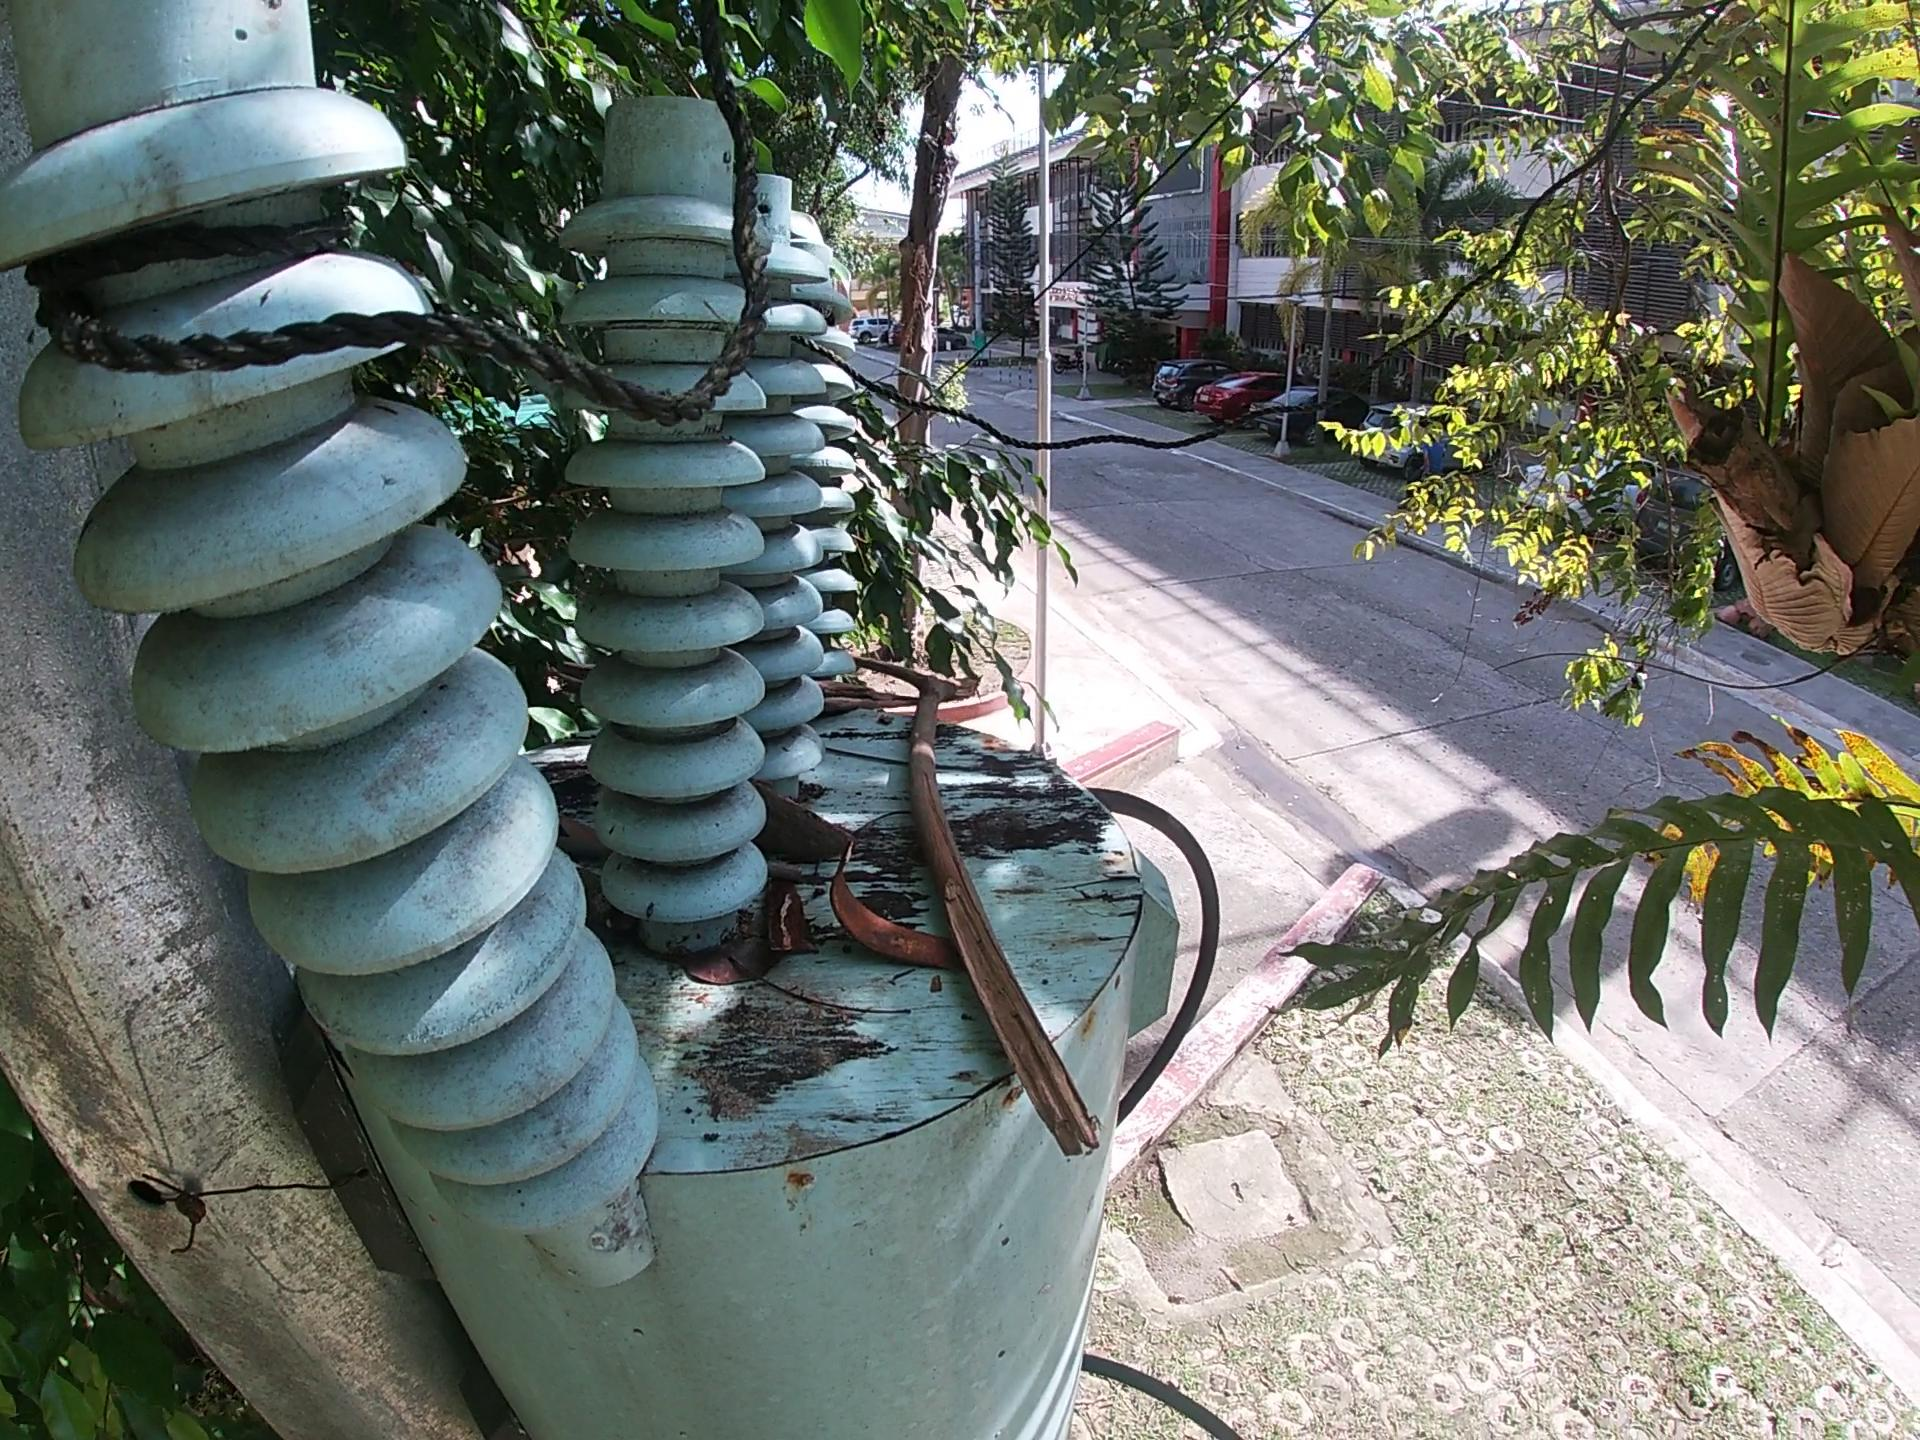leaf: (671, 914, 779, 995)
mahogany fruit: (828, 838, 966, 973), (750, 777, 860, 864), (756, 882, 818, 957)
tree branch: (850, 653, 1107, 1168), (807, 678, 918, 720), (762, 861, 810, 885)
